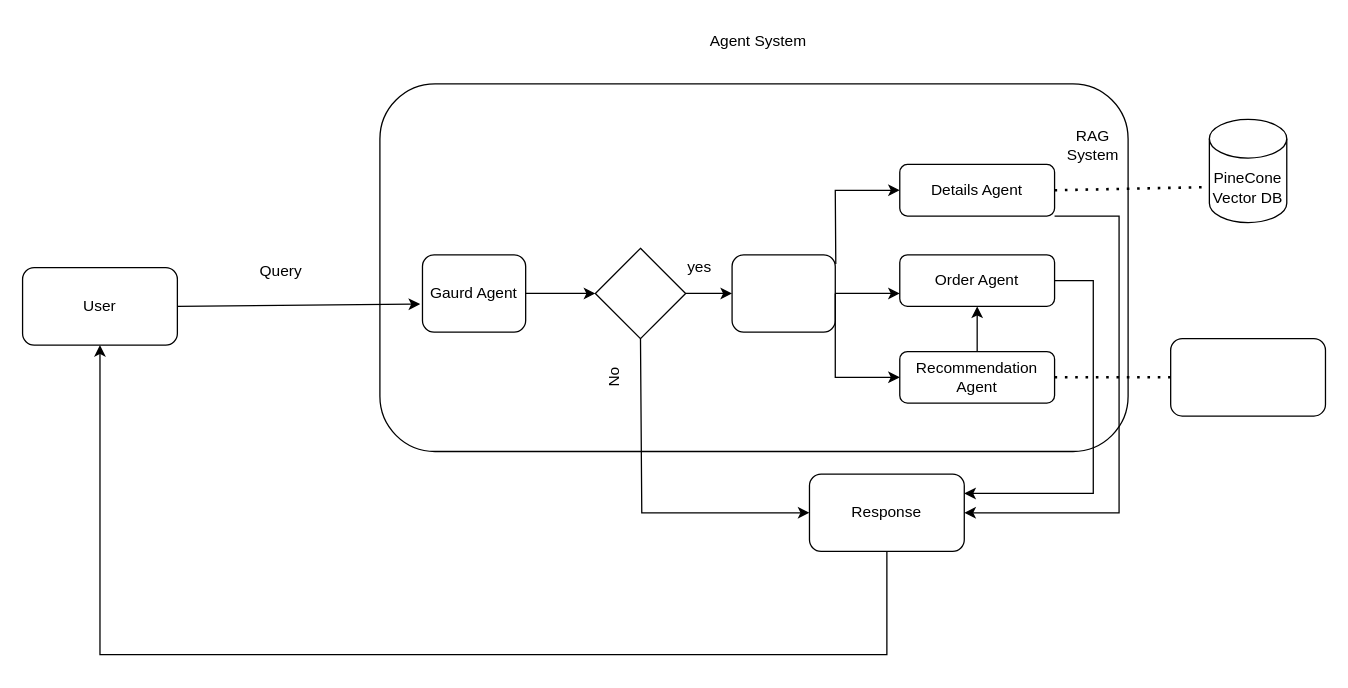
The diagram is 1348 pixels wide and 688 high, and some of its shapes have lost their labels. The shapes that lost their labels are listed below. From the top down, each one's centre as x and y in pixels, then its label:
the point at 640,293: Sale Question
the point at 783,292: Classification Agent
the point at 1247,376: Recommendation System
